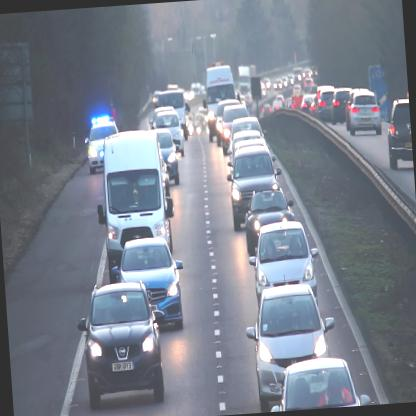car: (242, 282, 340, 413), (75, 280, 170, 406), (108, 236, 188, 334), (246, 219, 322, 306), (267, 357, 372, 411), (226, 144, 284, 232), (242, 190, 298, 255), (385, 99, 413, 170), (84, 122, 122, 172), (221, 106, 252, 156), (155, 130, 182, 186), (347, 93, 382, 136), (154, 112, 186, 158), (330, 88, 354, 124), (316, 90, 334, 123)
truck: (93, 128, 174, 278), (204, 64, 240, 146)
